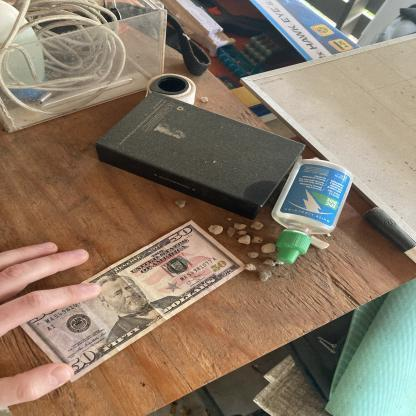fifty-front: (15, 221, 248, 382)
